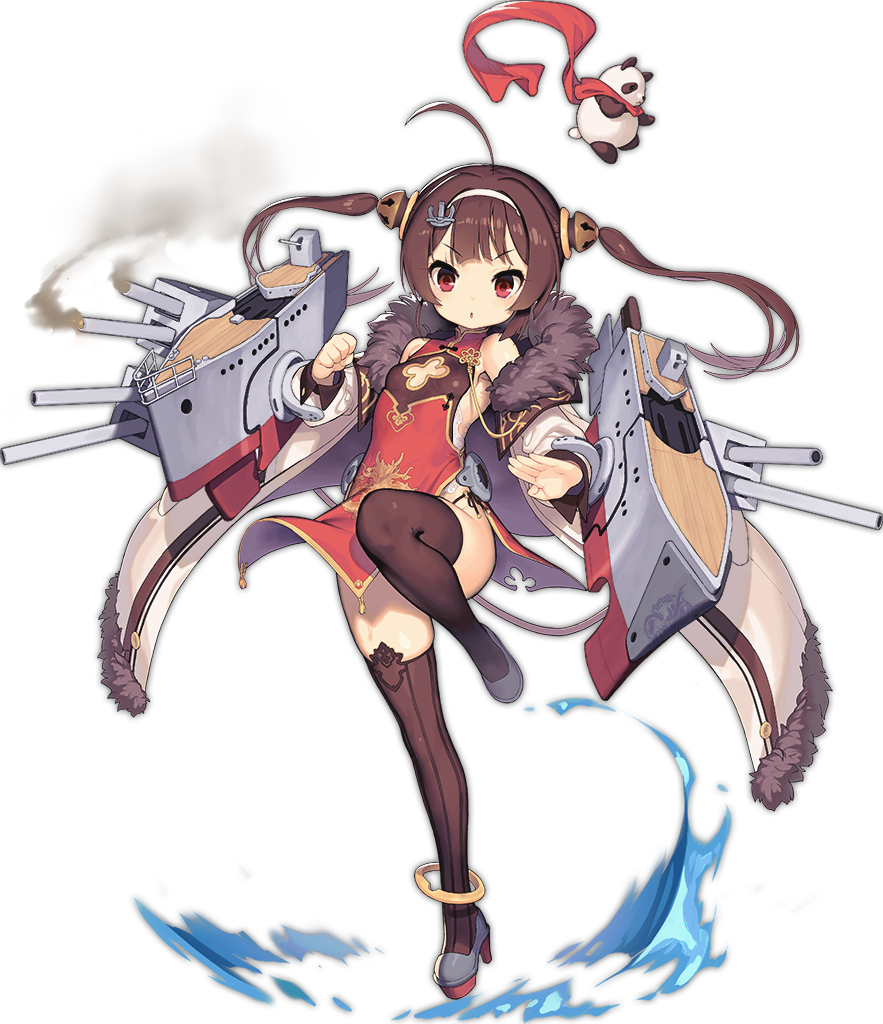person: (173, 151, 740, 907)
